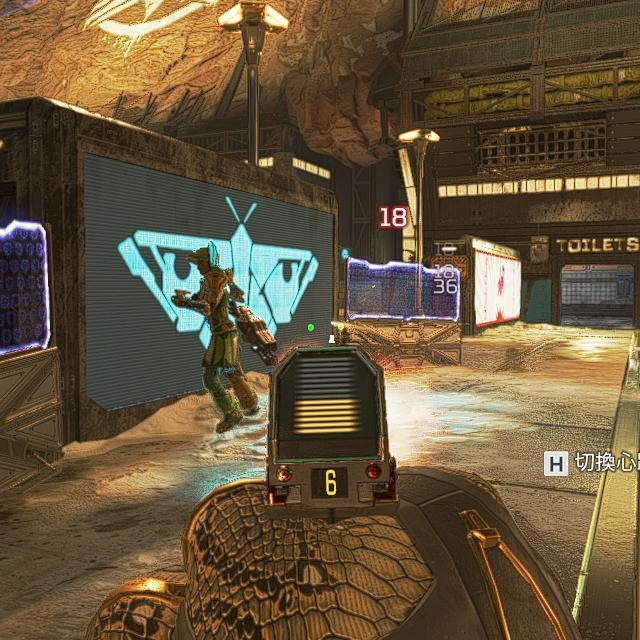avatar: (169, 245, 261, 437)
